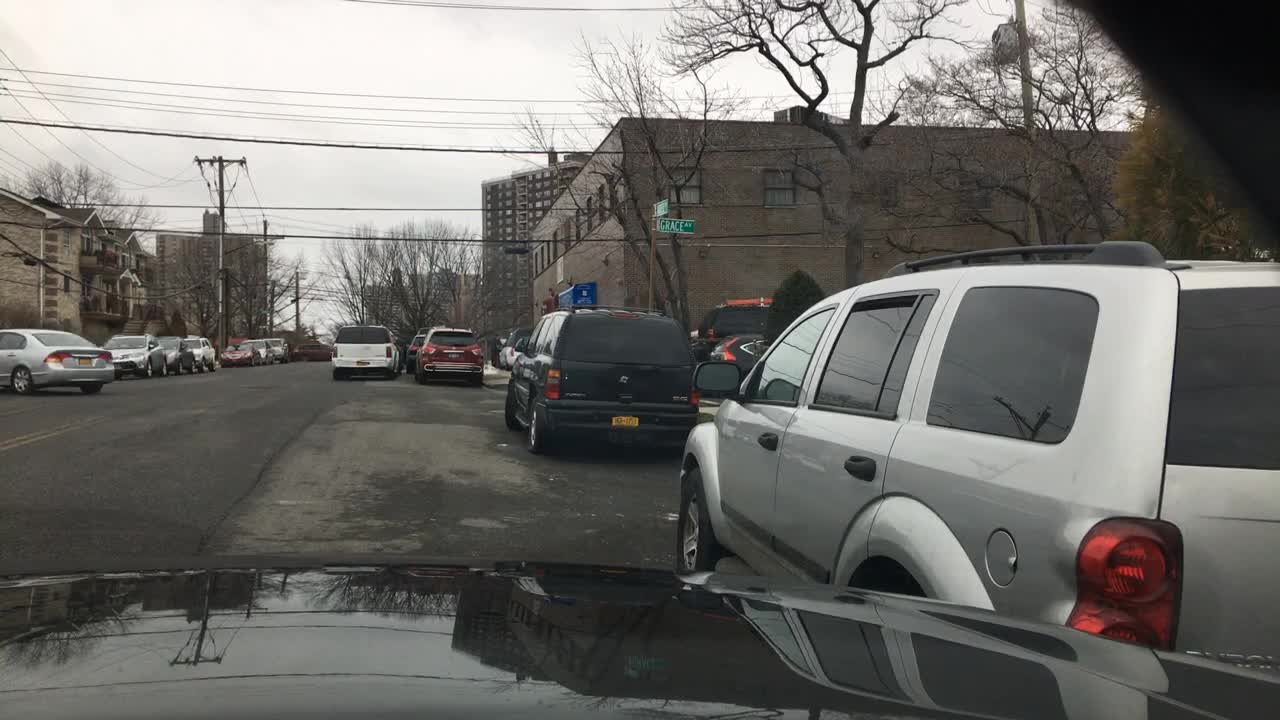car: (667, 237, 1278, 669), (505, 302, 707, 455), (1, 326, 115, 394), (685, 297, 769, 357), (414, 327, 487, 385), (330, 323, 402, 381), (103, 332, 169, 377), (714, 328, 774, 360), (153, 332, 196, 375), (499, 327, 532, 374), (184, 334, 218, 373), (218, 342, 262, 366), (404, 335, 426, 373), (290, 340, 332, 359), (242, 338, 275, 362), (262, 335, 290, 361), (414, 326, 433, 334)
traffic sign: (656, 215, 695, 236), (651, 202, 666, 212)
